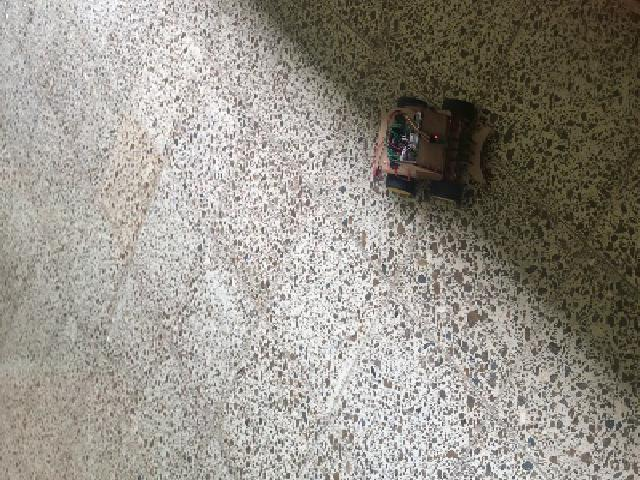Robot: (376, 96, 491, 200)
